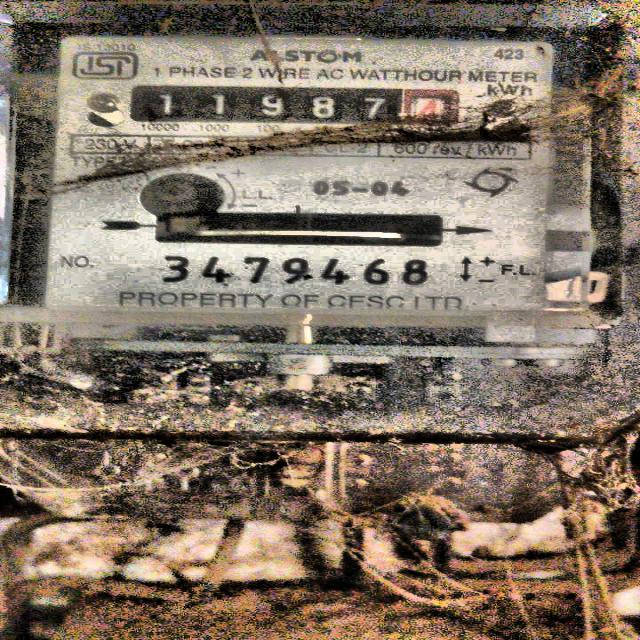Analog: (6, 0, 640, 444)
Reading: (140, 88, 454, 123)
Serial No.: (160, 256, 436, 288)
